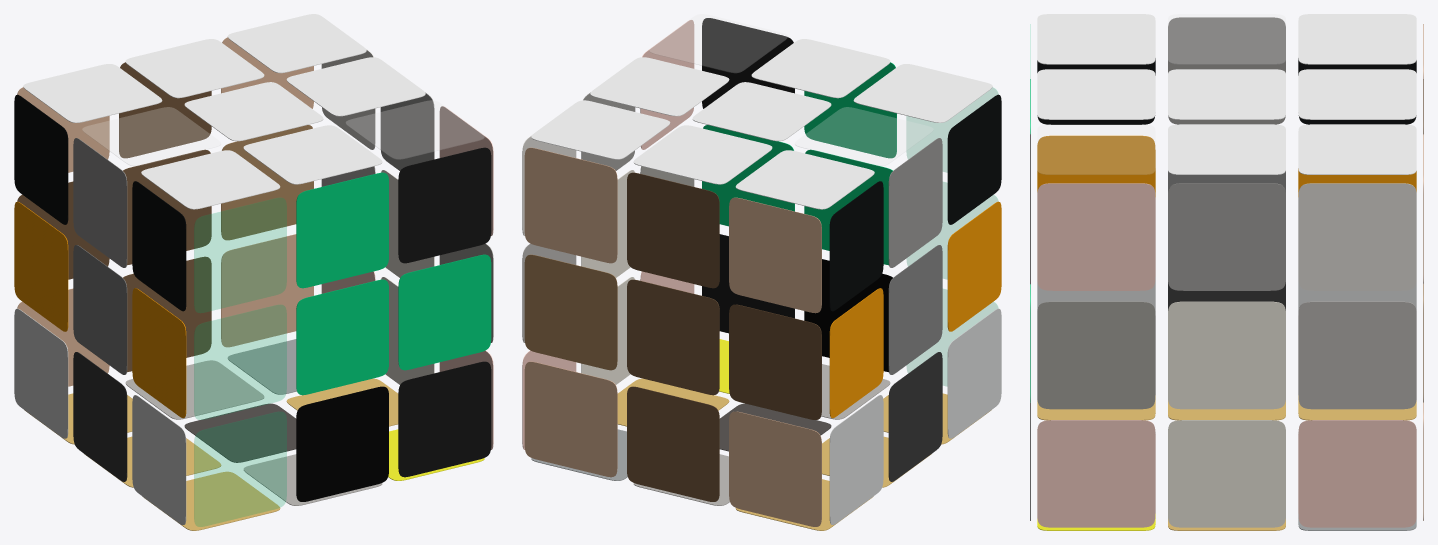
Rendered from stickers.glb.
3 renders of one model, left to right at view 1: azimuth 30°, elevation 25°; view 2: azimuth 150°, elevation 25°; view 3: azimuth 270°, elevation 25°, orthographic. The views are drawn at different scales.
Size of the model in its own units: 0.0542 by 0.0542 by 0.0542.
